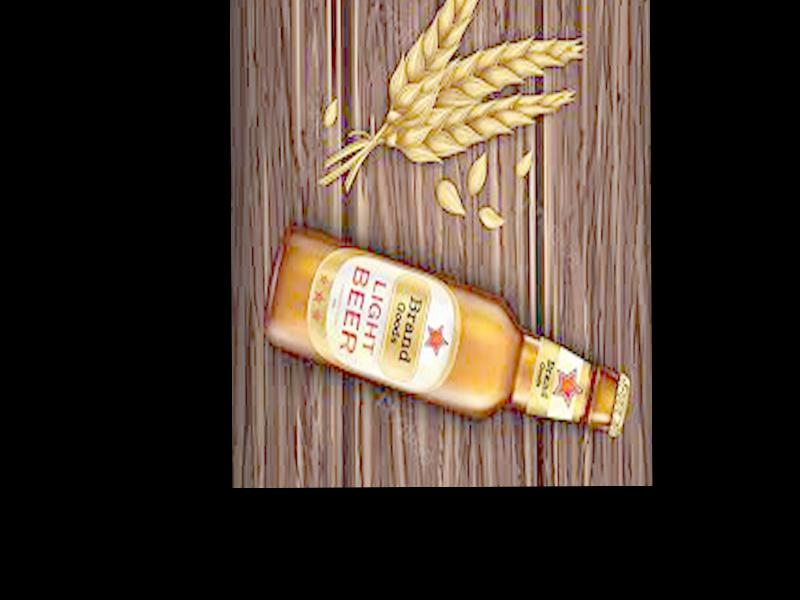Beer: (266, 227, 631, 440)
